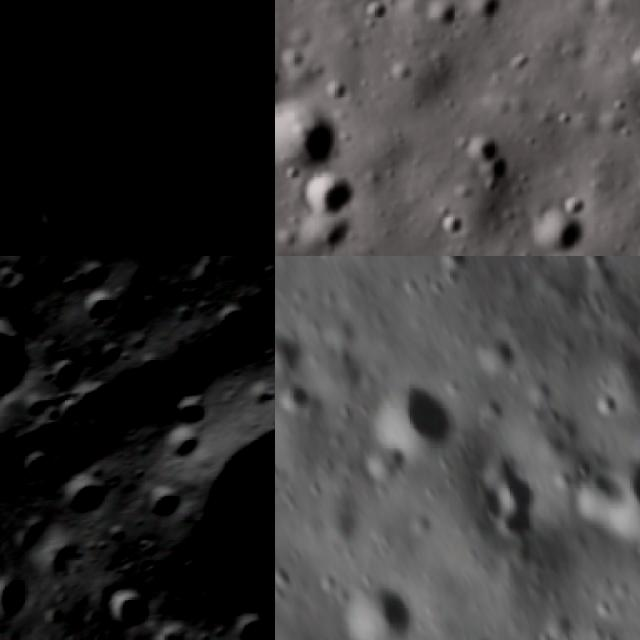crater: (130, 356, 275, 640), (75, 79, 275, 256), (363, 371, 461, 471), (84, 62, 177, 158), (464, 447, 541, 541), (323, 572, 424, 640), (571, 450, 640, 547), (0, 300, 53, 426), (275, 103, 340, 179), (122, 469, 192, 538), (54, 458, 121, 526), (203, 288, 271, 354), (168, 38, 234, 105), (13, 439, 74, 502), (212, 54, 272, 118), (0, 0, 56, 65), (68, 278, 127, 335), (299, 176, 364, 225), (166, 383, 221, 440), (57, 218, 135, 256), (54, 18, 110, 70), (0, 156, 29, 256), (126, 282, 177, 334), (524, 214, 587, 256), (466, 322, 516, 374), (69, 256, 120, 302), (44, 349, 88, 394), (144, 142, 192, 183), (276, 378, 320, 422), (416, 0, 464, 35), (226, 610, 275, 640), (0, 256, 48, 286), (476, 0, 513, 27), (359, 0, 390, 32), (438, 209, 468, 238), (431, 256, 467, 276), (622, 45, 640, 78), (0, 256, 5, 302)
